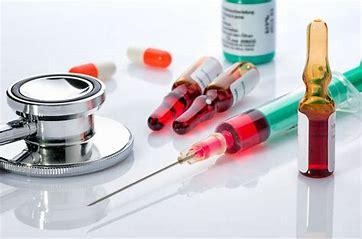Syringe: (84, 110, 244, 213), (148, 46, 264, 131), (293, 10, 339, 182)
